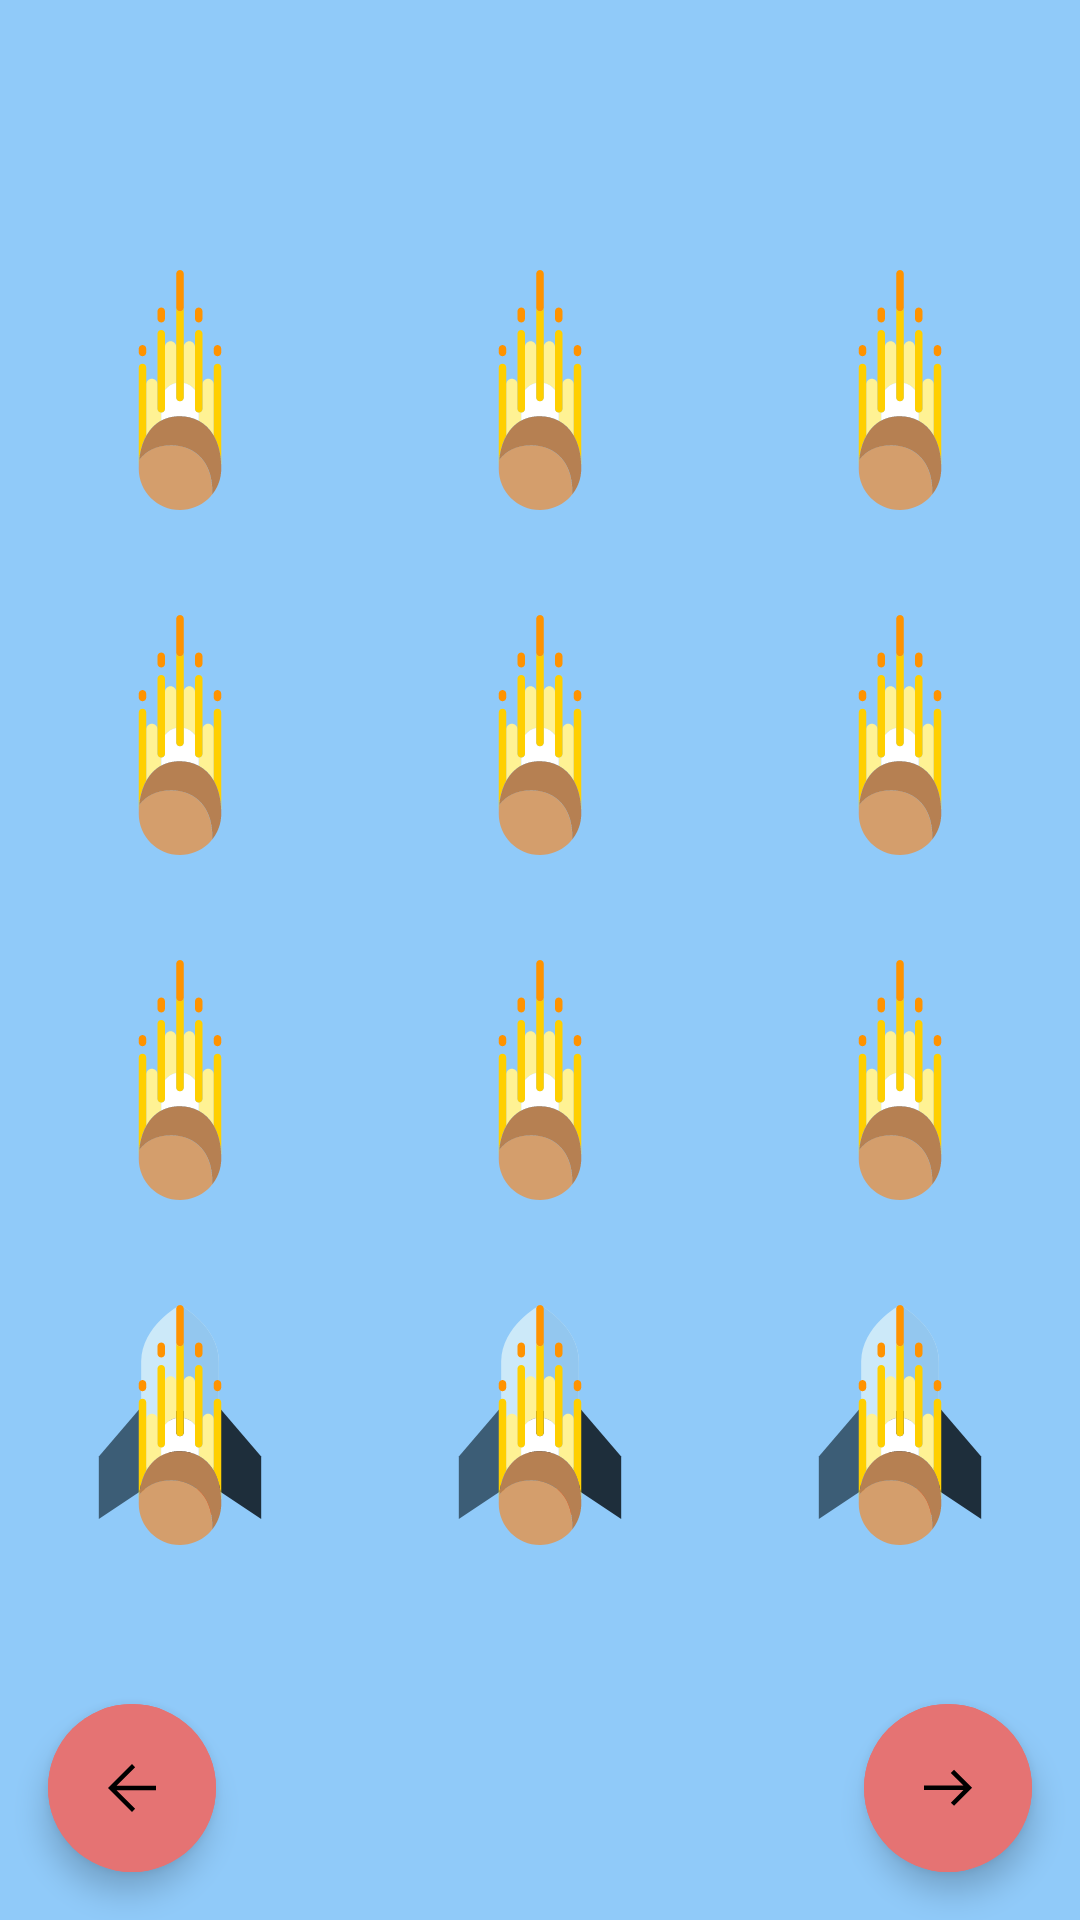

Screen size 1080x1920. Icon name, then its center in pixels as point (x, y):
left arrow: point (132, 1788)
right arrow: point (948, 1788)
